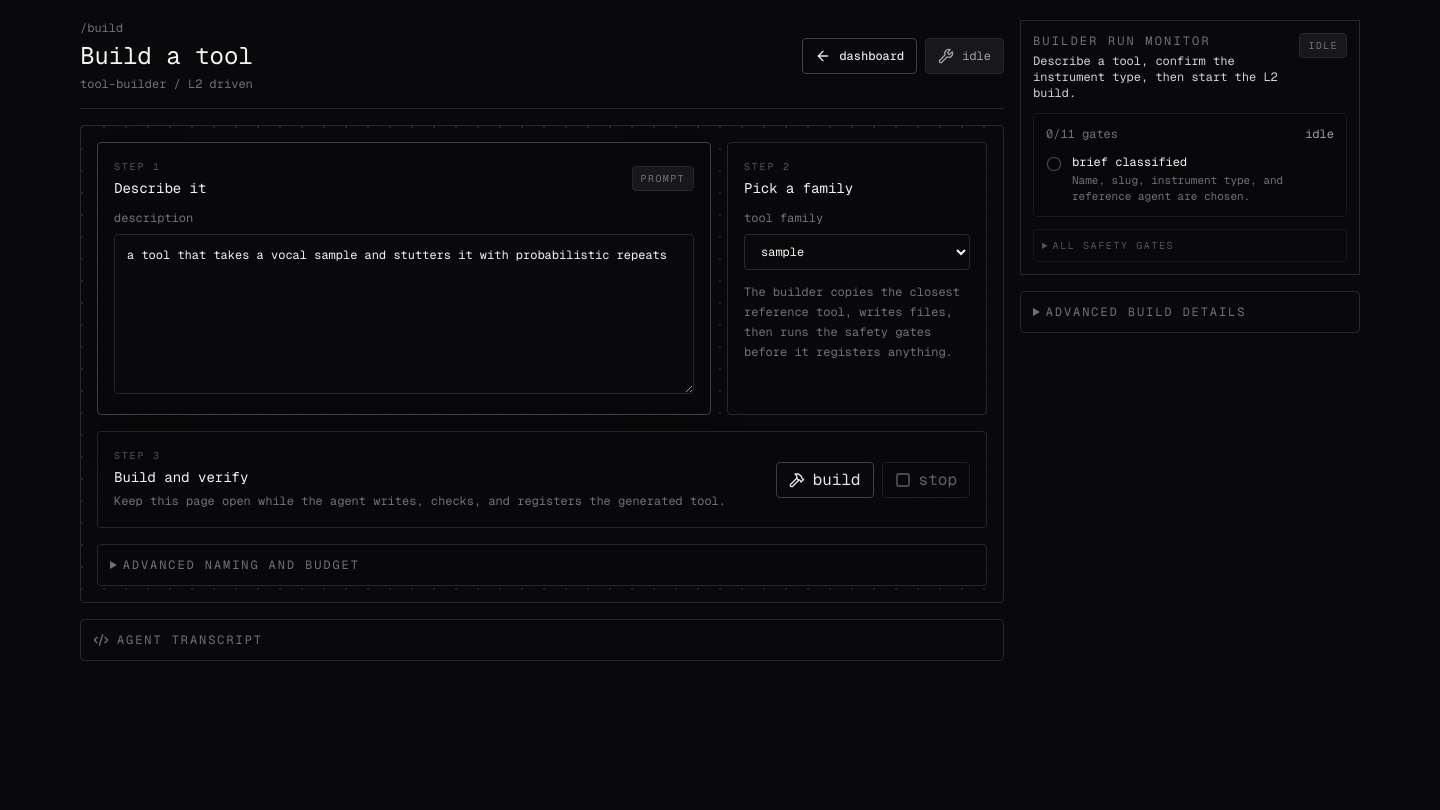
Test: ToolBuilderClient › streams L2 chunks into a staged builder run monitor
Click the button "build".
click(825, 480)  # box [776,462,874,498]
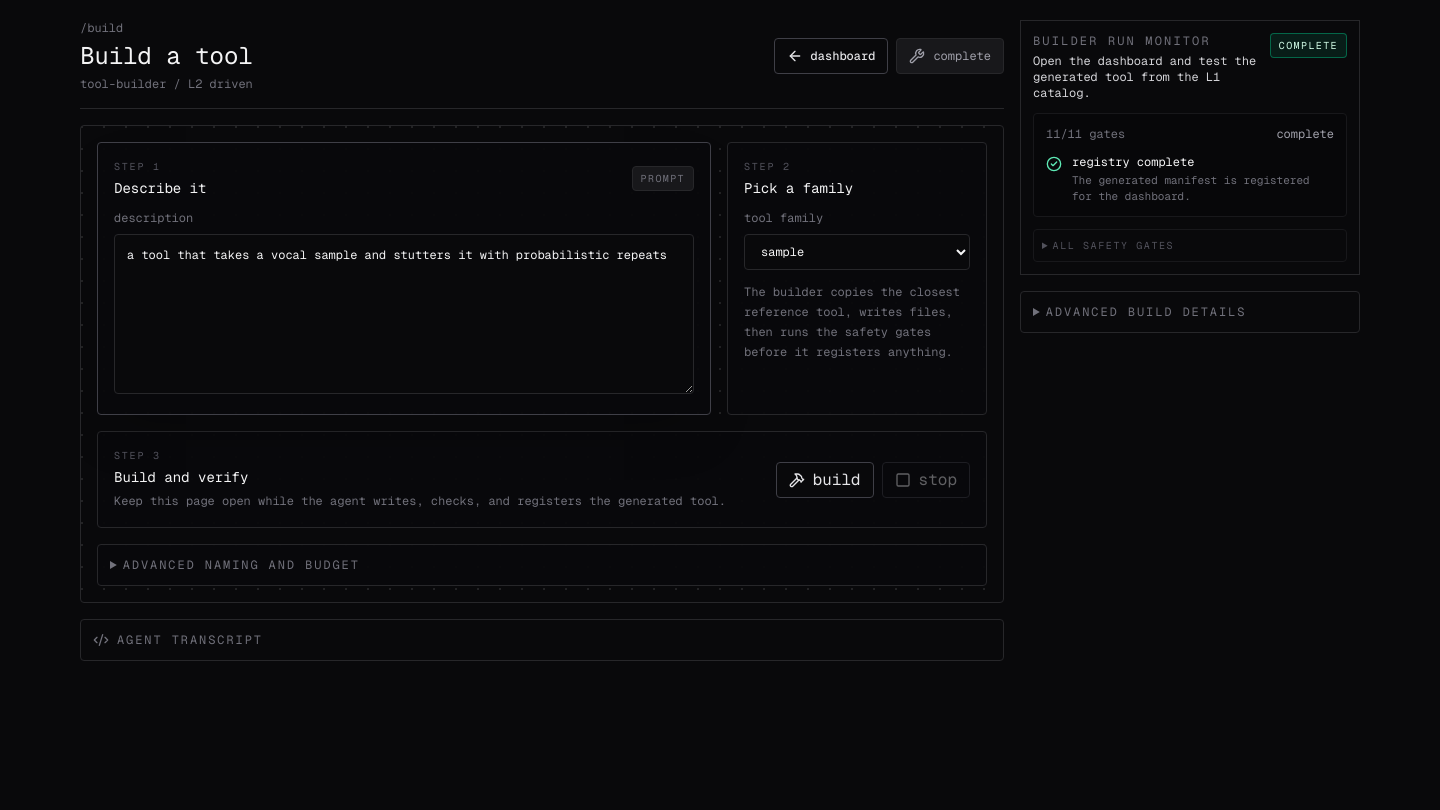
Check: the text "11/11 gates" is shown, box [1046,126,1125,142]
Check: the text "complete" in the row of "builder run monitor" is shown, box [1279,39,1338,52]
Check: the text "Open the dashboard" is shown, box [1033,53,1256,101]
